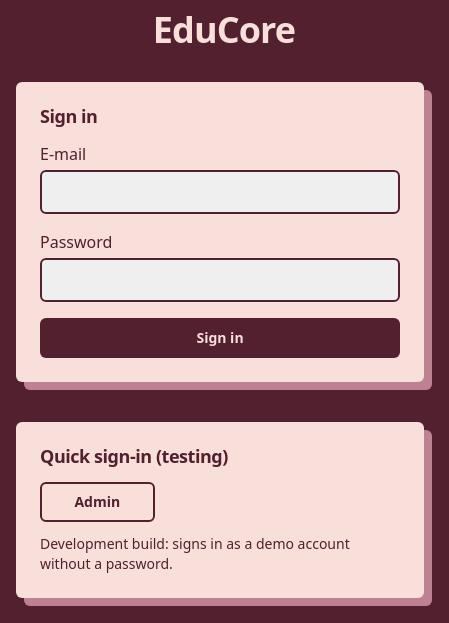
Test: quick sign-in (testing) › hides the buttons during the two-factor step
Expected: the button "Admin" is shown, [40,482,155,522]
In the field labelled "E-mail": (220, 192) [40,170,400,214], type "a@b.sk"
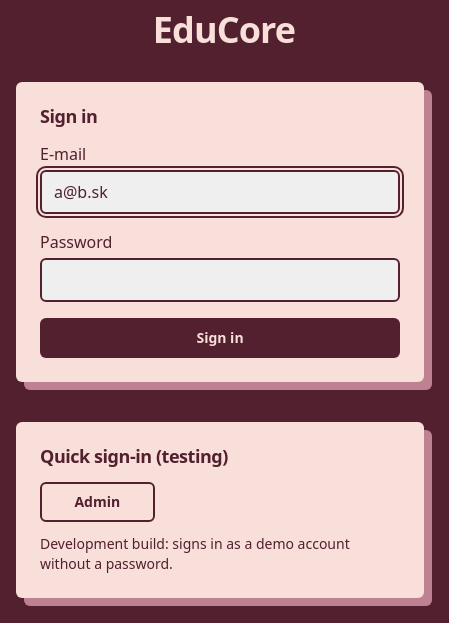
In the password field labelled "Password": (220, 280) [40,258,400,302], type "x"
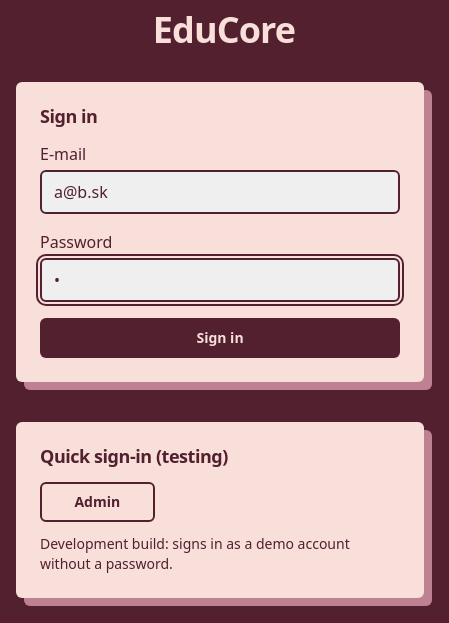
Click the button "Sign in": (220, 338) [40,318,400,358]
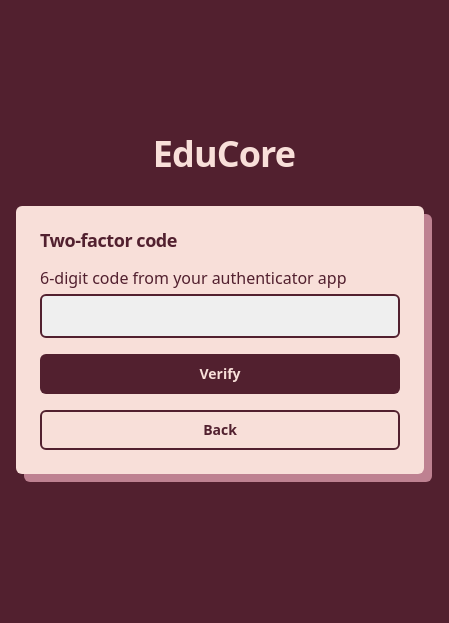
Expected: the field labelled "6-digit code from your authenticator app" is shown, [40,294,400,338]
Expected: the button "Admin" is gone
